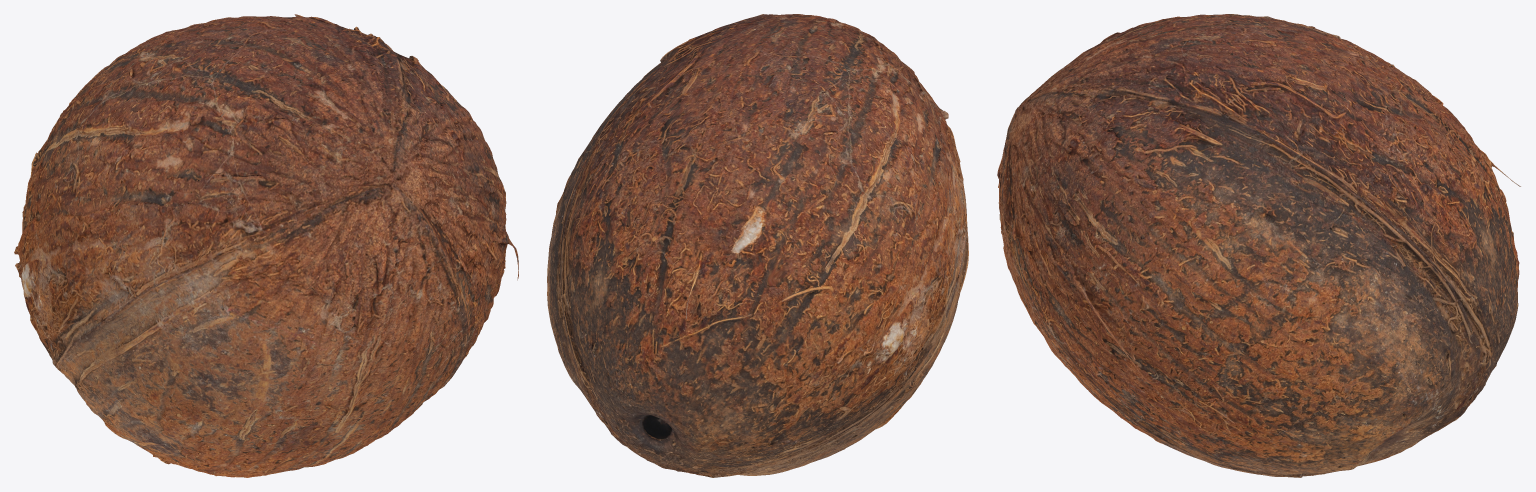
File: coconut.glb
3 renders of one model, left to right at view 1: azimuth 30°, elevation 25°; view 2: azimuth 150°, elevation 25°; view 3: azimuth 270°, elevation 25°, orthographic. The views are drawn at different scales.
Visible parts, largest first — view 1: Model; view 2: Model; view 3: Model.
Boxes of the visible parts, x1,y1,x2,y2 form: Model: (14,14,518,477); Model: (547,14,968,477); Model: (997,14,1520,477).
Bounding box in the file's own units: 2.15 × 2.24 × 2.51.
3 materials, 3 textured.
